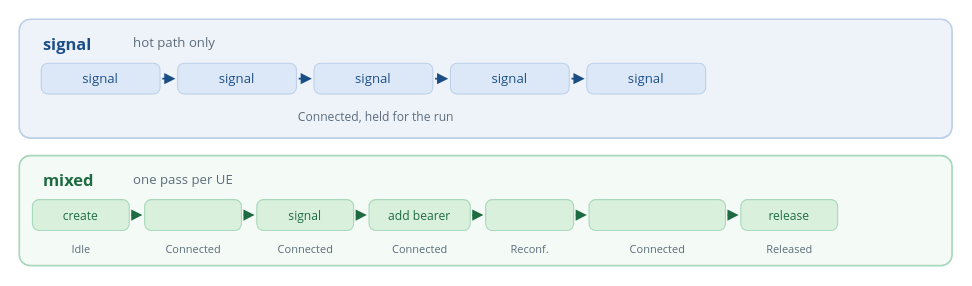
Some shapes in this 972 by 286 pixel diagram are drawn without their labels. Here are the shapes that lost their labels. From the top down, the centre of each, then its label:
At pixel 192 214: "setup".
At pixel 529 214: "begin".
At pixel 656 214: "complete / abort".
